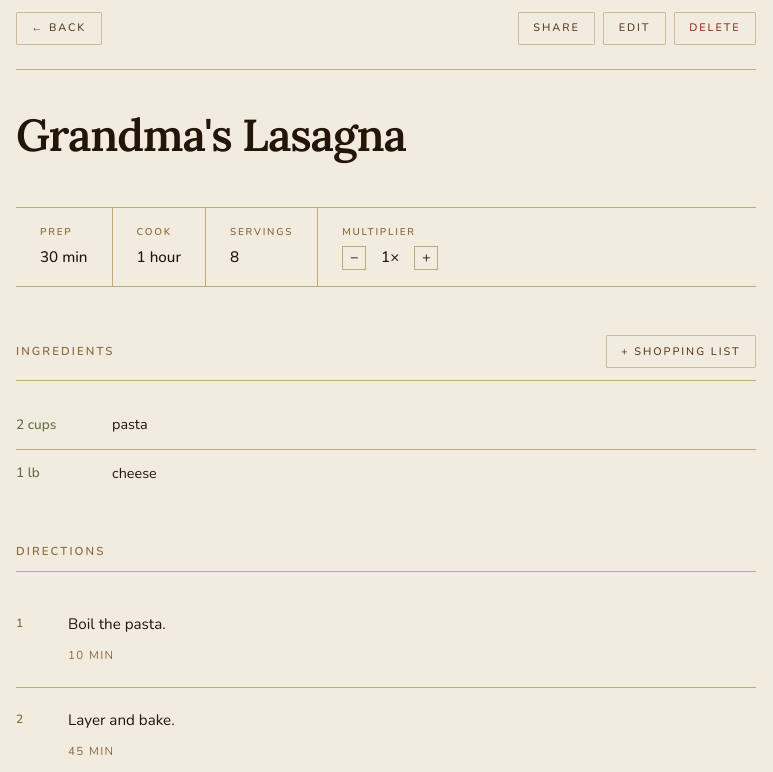
RecipeViewer › multiplier cannot go below 0.5
Expected: the heading "Grandma's Lasagna" is shown, top-left (16, 106), bottom-right (406, 163)
Click the button named "Decrease recipe multiplier" at (354, 258), box top-left (342, 246), bottom-right (366, 270)
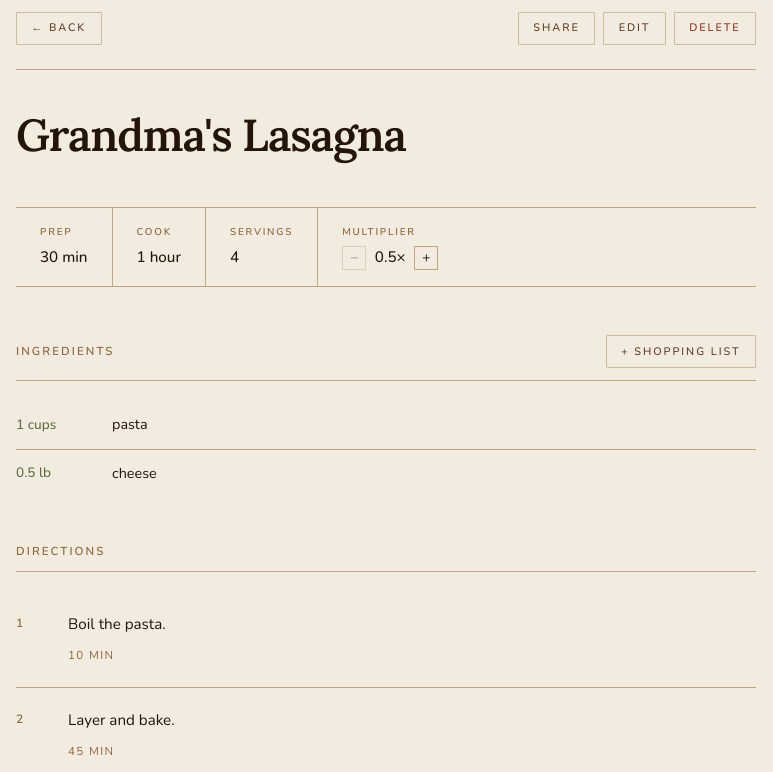
Result: the text "0.5×" is shown at top-left (374, 245), bottom-right (406, 270)
Result: the button named "Decrease recipe multiplier" is disabled at top-left (342, 246), bottom-right (366, 270)
